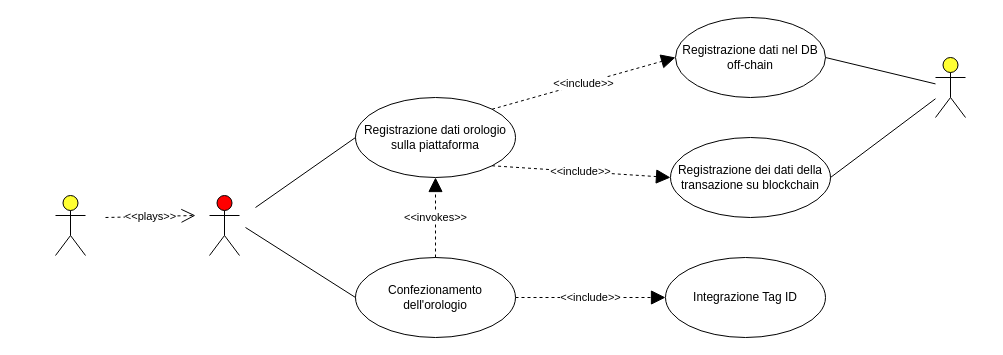
This 1003x355 diagram has some shape labels left out. The shapes that lost their labels are listed below. From the top down, each one's centre as x and y in pixels, then its label:
At (x=950, y=87): "Intermediario".
At (x=70, y=225): "Azienda produttrice di orologi di lusso".
At (x=224, y=225): "Produttore".
